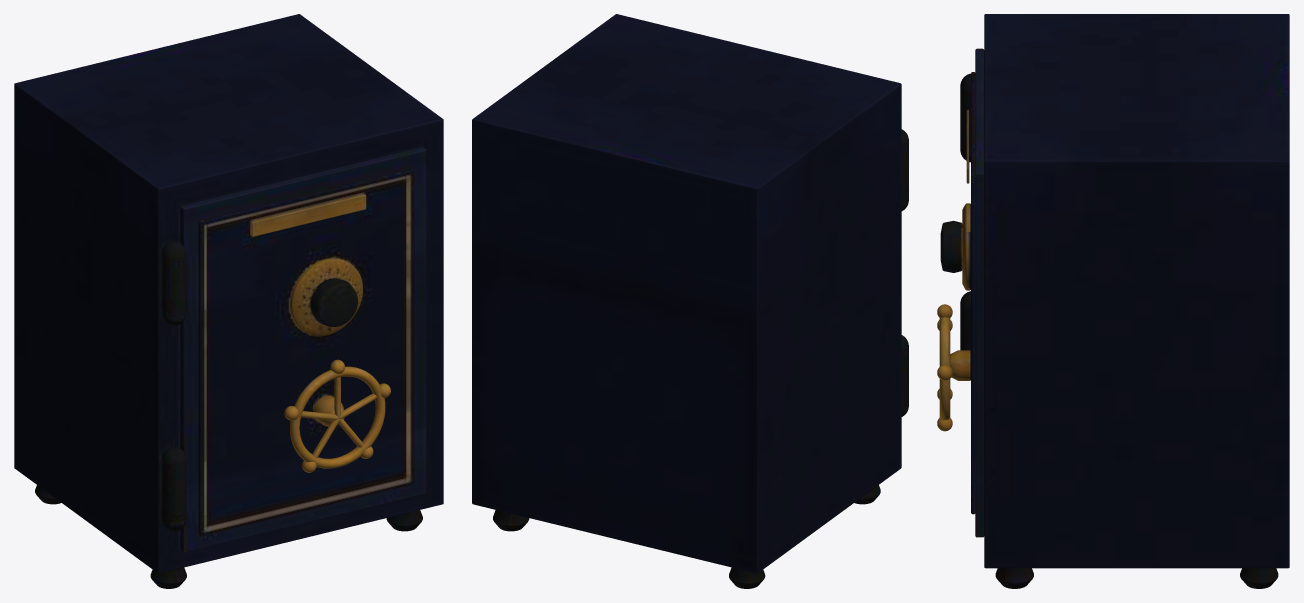
The model's file is safe.glb.
The picture shows the model from 3 angles, left to right: view 1: azimuth 30°, elevation 25°; view 2: azimuth 150°, elevation 25°; view 3: azimuth 270°, elevation 25°; orthographic projection. The views are drawn at different scales.
Visible parts, largest first — view 1: safe; view 2: safe; view 3: safe.
Part boxes in pixels (x1,y1,x2,y2): safe: (14, 14, 443, 588); safe: (472, 14, 908, 588); safe: (937, 14, 1289, 588).
Size of the model in its own units: 0.8 by 1.1 by 0.8078.
Materials: 1 (1 with a texture image).
